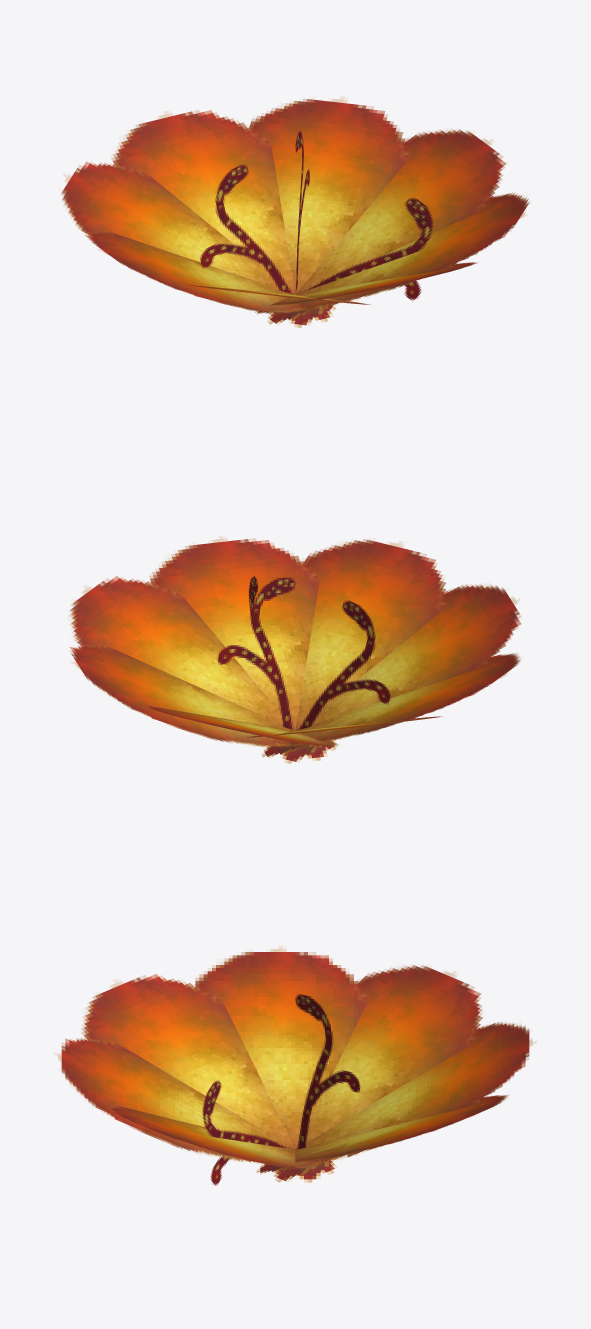
Rendered from BETA Bloody.glb.
3 views of the same model, one above another, from view 1: azimuth 30°, elevation 25°; view 2: azimuth 150°, elevation 25°; view 3: azimuth 270°, elevation 25° (orthographic). The views are drawn at different scales.
Parts seen in each view (by area): view 1: Flower A3; view 2: Flower A3; view 3: Flower A3.
Part boxes in pixels (left/top/right/bottom): Flower A3: left=61, top=97, right=529, bottom=327; Flower A3: left=69, top=536, right=521, bottom=763; Flower A3: left=55, top=946, right=536, bottom=1185.
Bounding box in the file's own units: 0.3593 × 0.281 × 0.3593.
2 materials, 2 textured.
